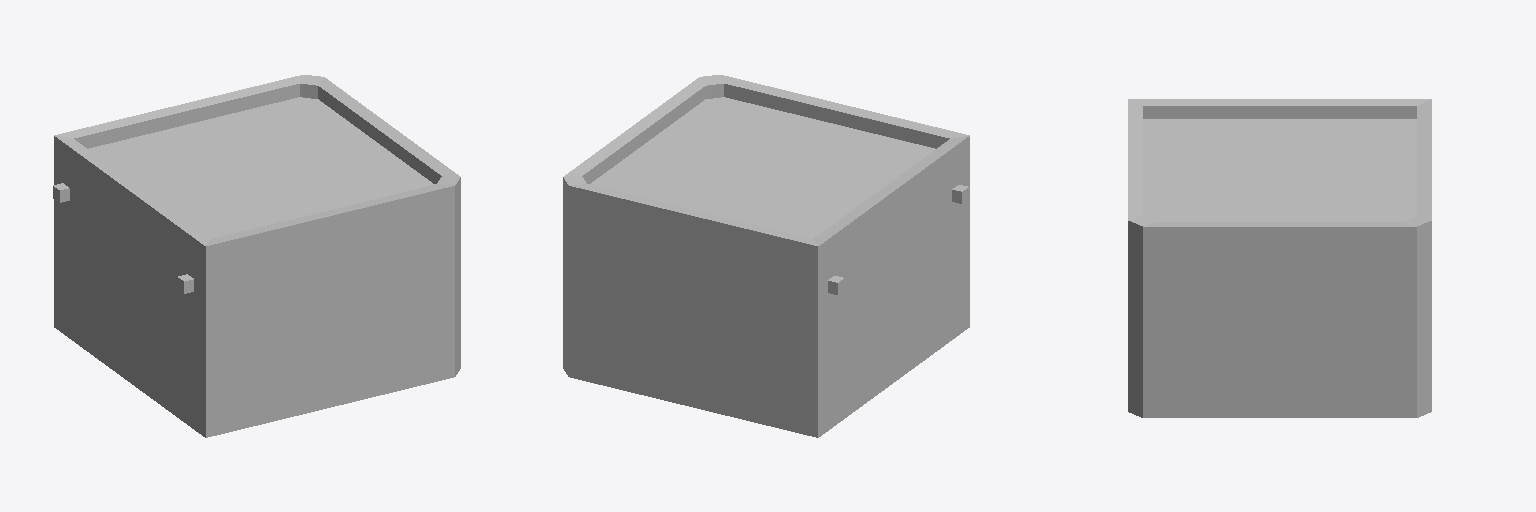
Rendered from BG_Building_02.obj.
The picture shows the model from 3 angles: view 1: azimuth 30°, elevation 25°; view 2: azimuth 150°, elevation 25°; view 3: azimuth 270°, elevation 25°; orthographic projection.
Parts seen in each view (by area): view 1: Building_02; view 2: Building_02; view 3: Building_02.
Boxes of the visible parts, box(x1,y1,x2,y2) form: Building_02: box(53, 75, 460, 437); Building_02: box(563, 75, 969, 437); Building_02: box(1128, 99, 1431, 417).
Bounding box in the file's own units: 731 × 490 × 703.